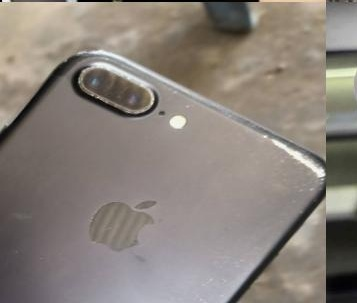scratch: (76, 58, 157, 121), (271, 133, 326, 196), (71, 45, 113, 61), (159, 82, 178, 95), (195, 291, 210, 303), (200, 275, 214, 286), (183, 100, 196, 108), (219, 274, 229, 283), (212, 259, 223, 267), (262, 128, 269, 140), (95, 205, 105, 213), (173, 296, 184, 303), (292, 209, 304, 215), (218, 290, 226, 296), (92, 239, 99, 245)
